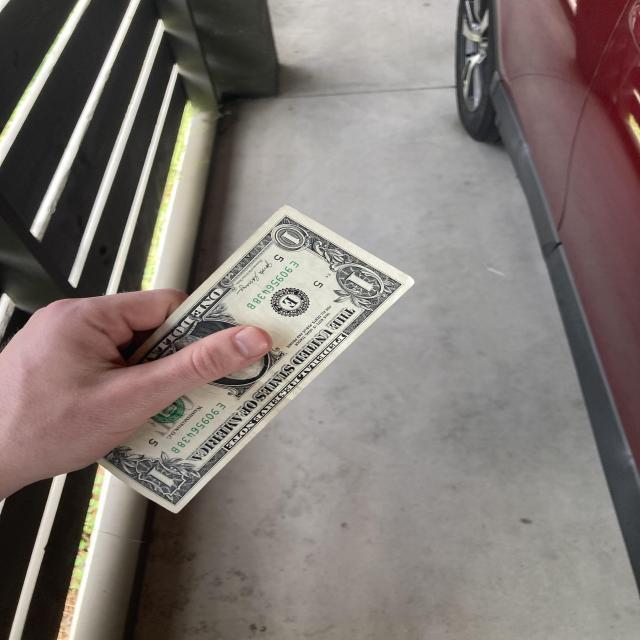one: (58, 203, 418, 515)
